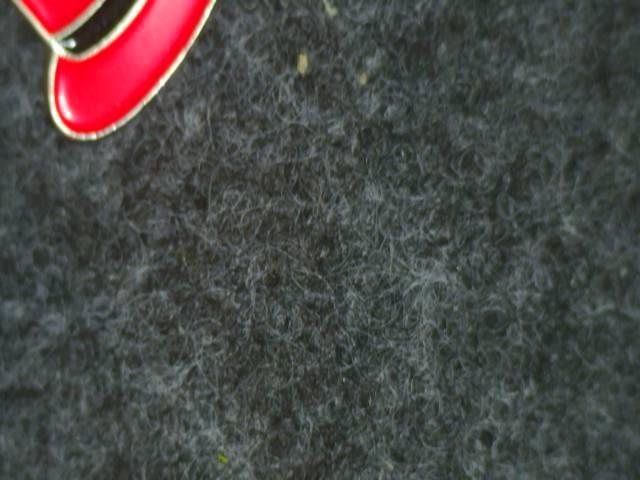Red-Hat: (0, 0, 235, 194)
